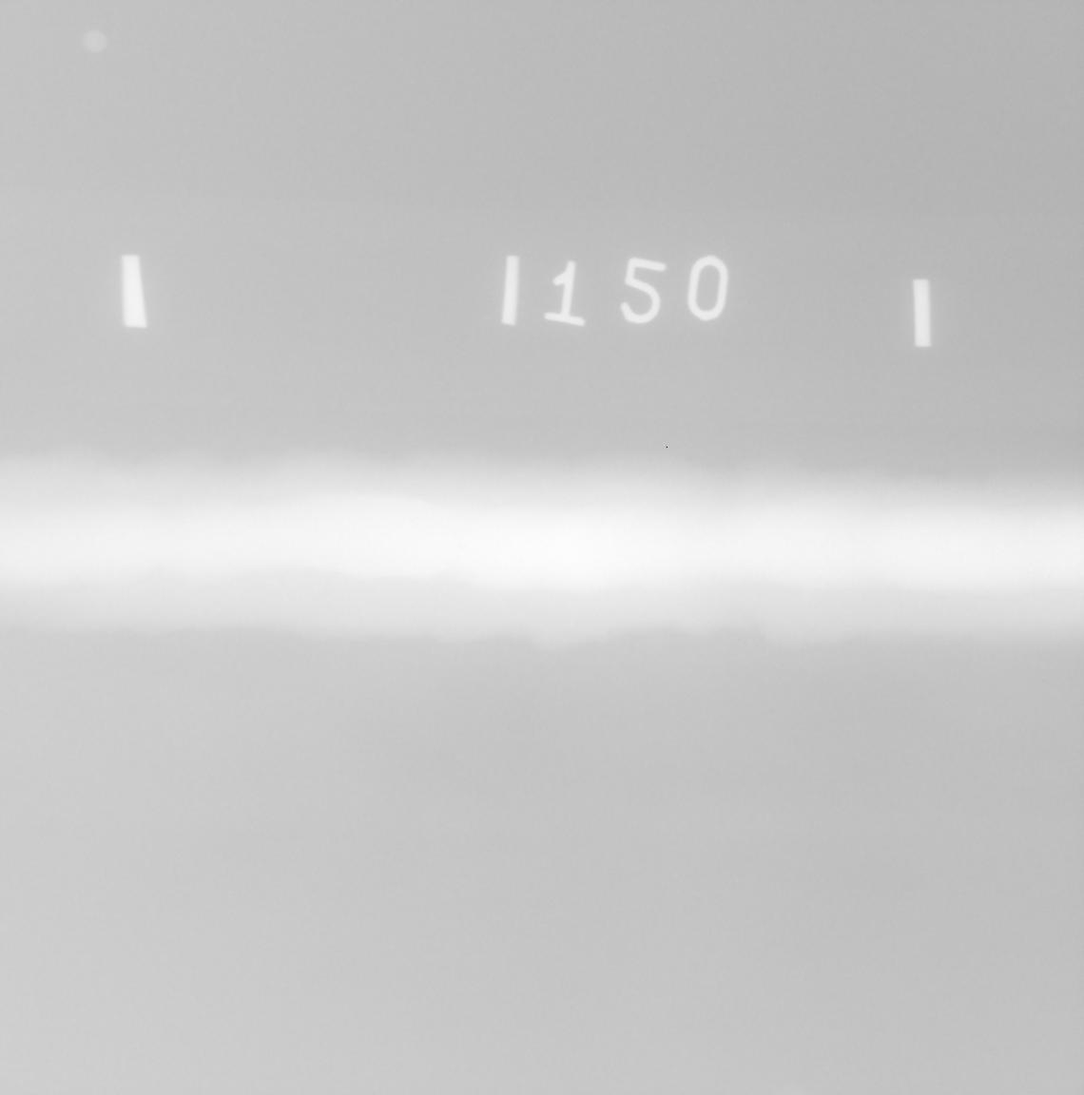Pore/Porosity: (457, 544, 468, 550)
